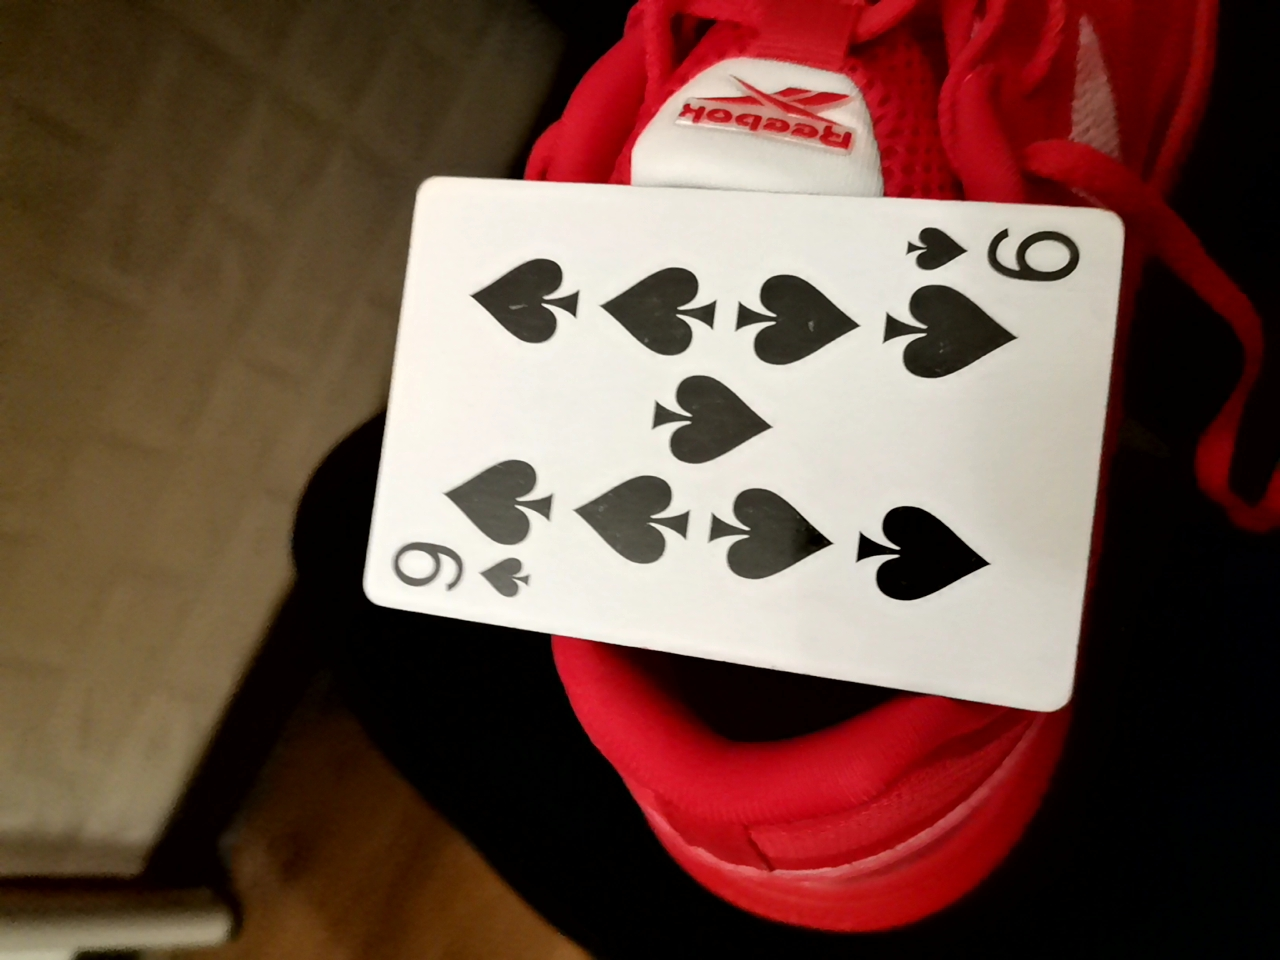ht 9: (357, 167, 1105, 716)
